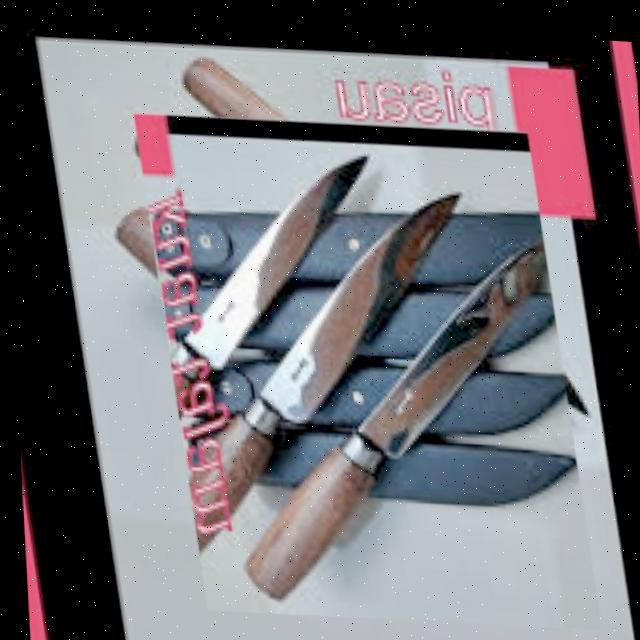knife: (220, 215, 562, 616), (170, 166, 480, 563), (155, 133, 384, 432)
